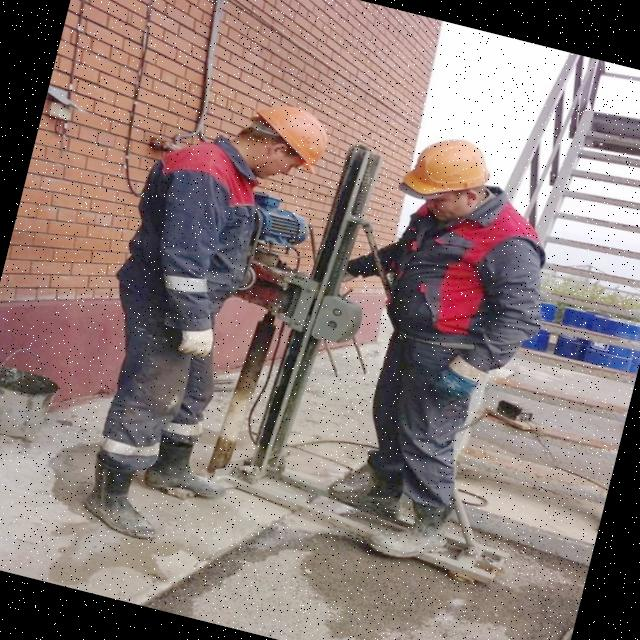Helmet: (401, 130, 497, 220), (238, 98, 333, 182)
NoJacket: (387, 193, 538, 356), (135, 135, 275, 301)
